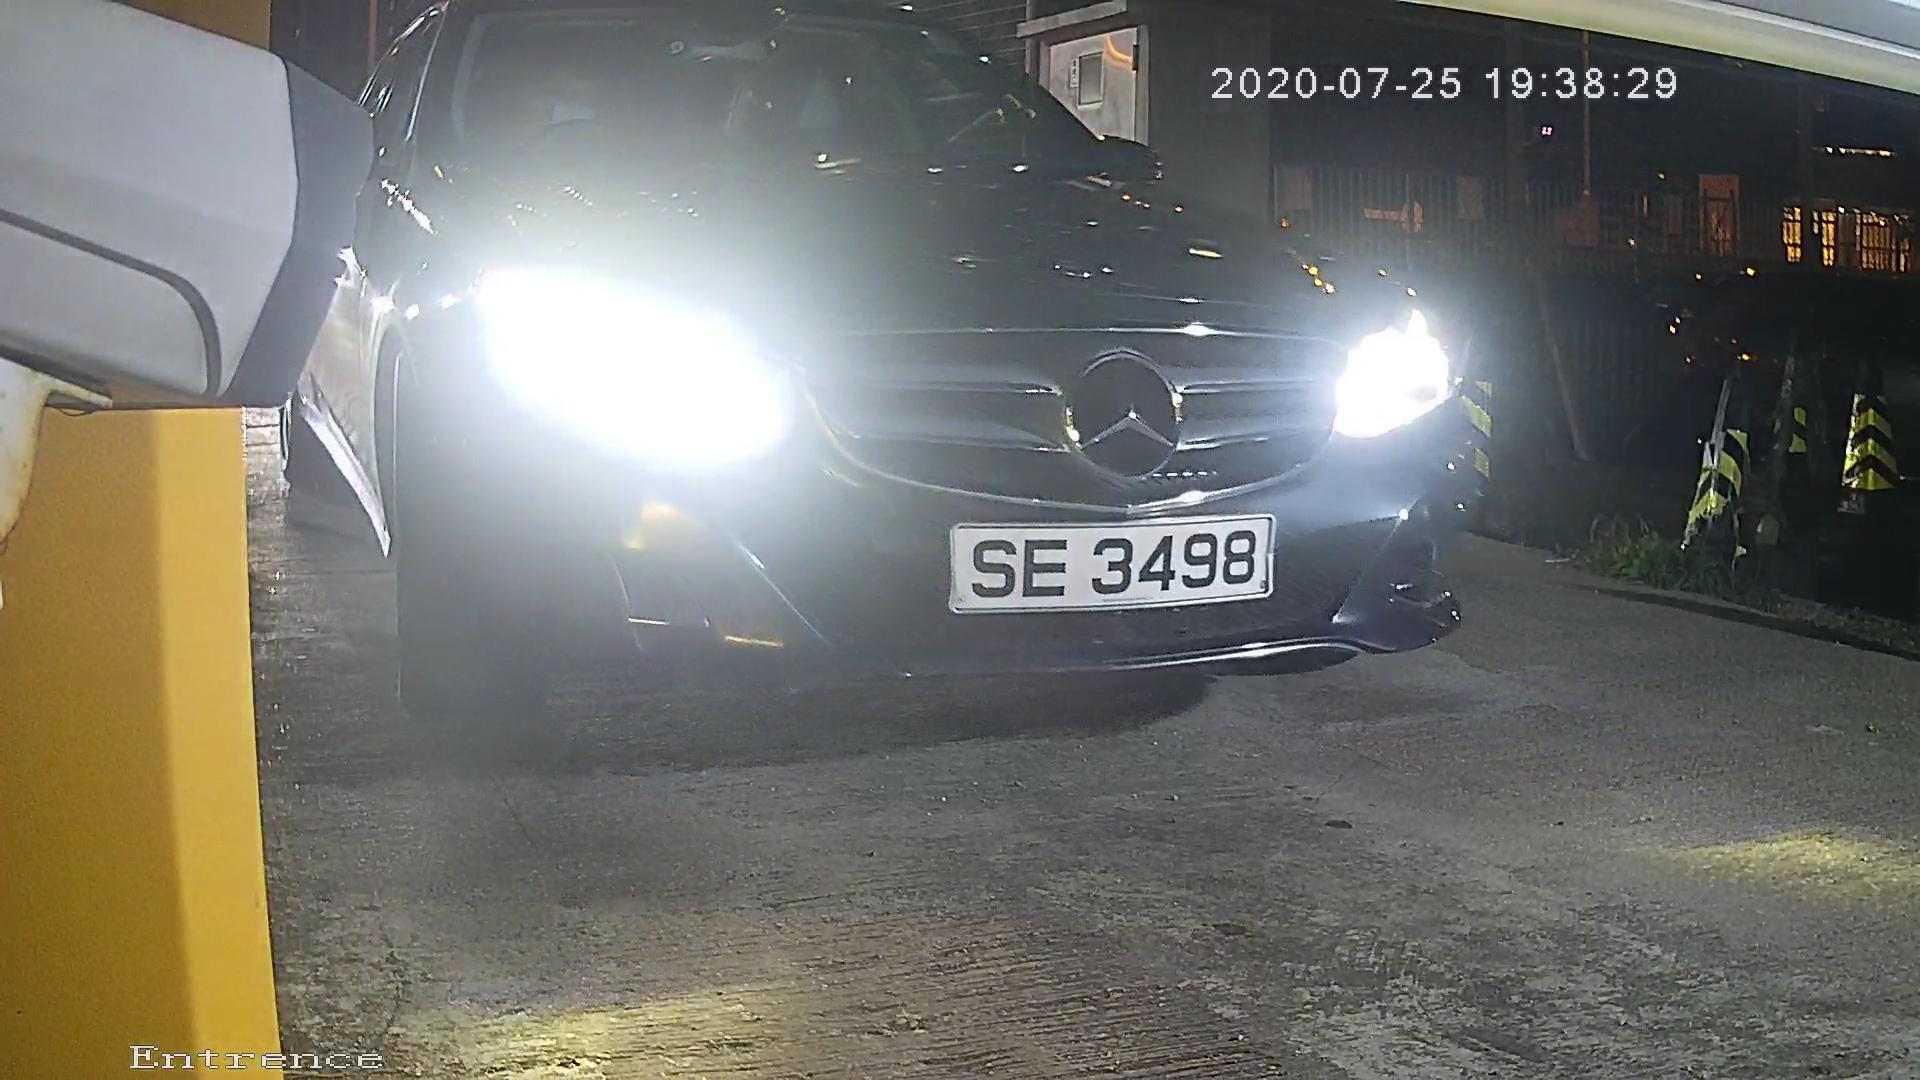privatecar: (335, 11, 1706, 738)
